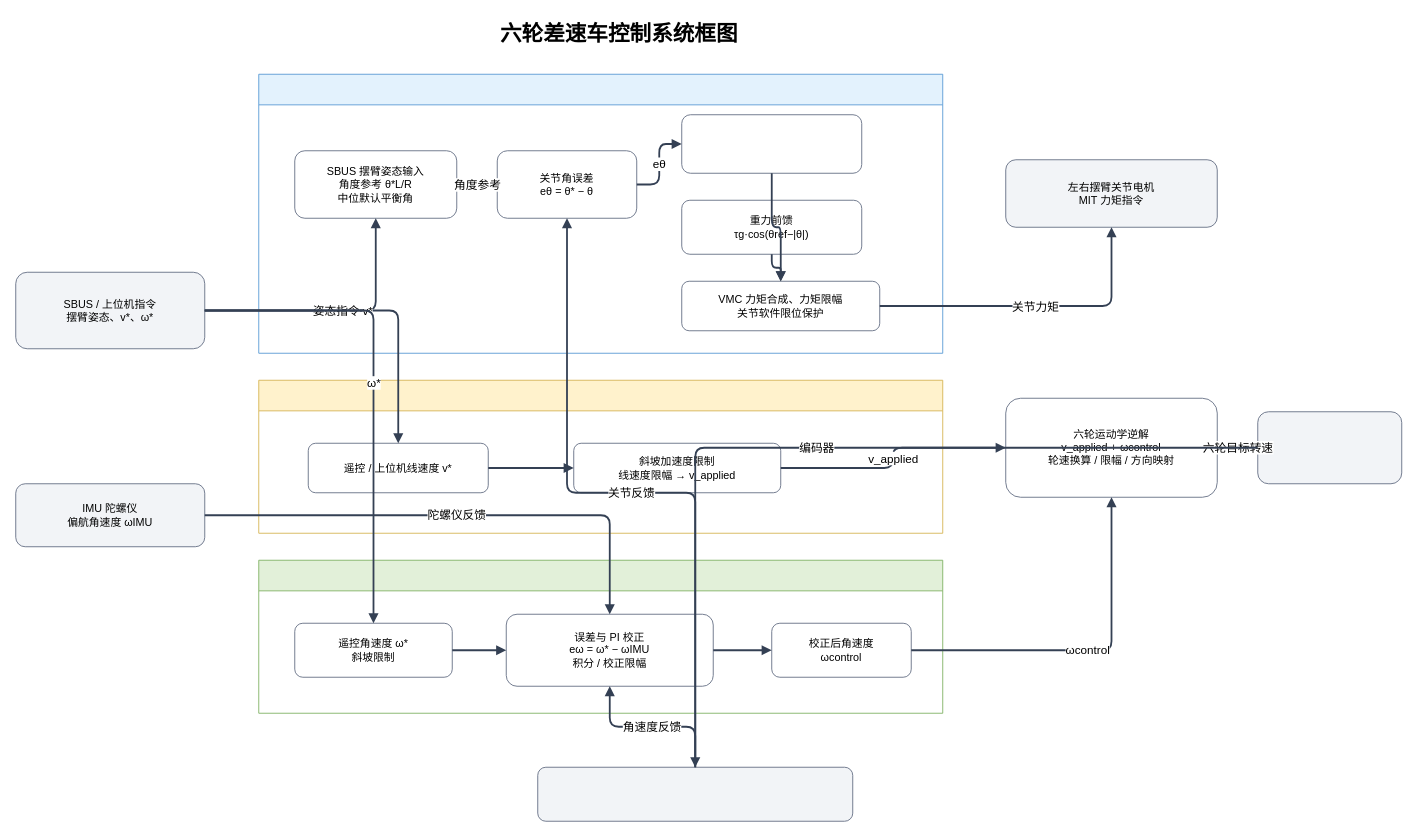
The diagram is 1418 pixels wide and 837 high, and some of its shapes have lost their labels. The shapes that lost their labels are listed below. From the top down, each one's box as (x1, y1, x2, y2) in pixels, then its label:
(681, 114, 862, 173): 弹性恢复 + 阻尼 Kp·eθ − Kd·θ̇
(258, 73, 943, 353): 摆臂调节模块
(258, 379, 943, 533): 速度控制模块
(1257, 411, 1402, 484): 六轮底盘电机 速度指令
(258, 559, 943, 713): 角速度控制模块
(537, 766, 853, 821): 电机反馈：轮速、关节角度 / 角速度
